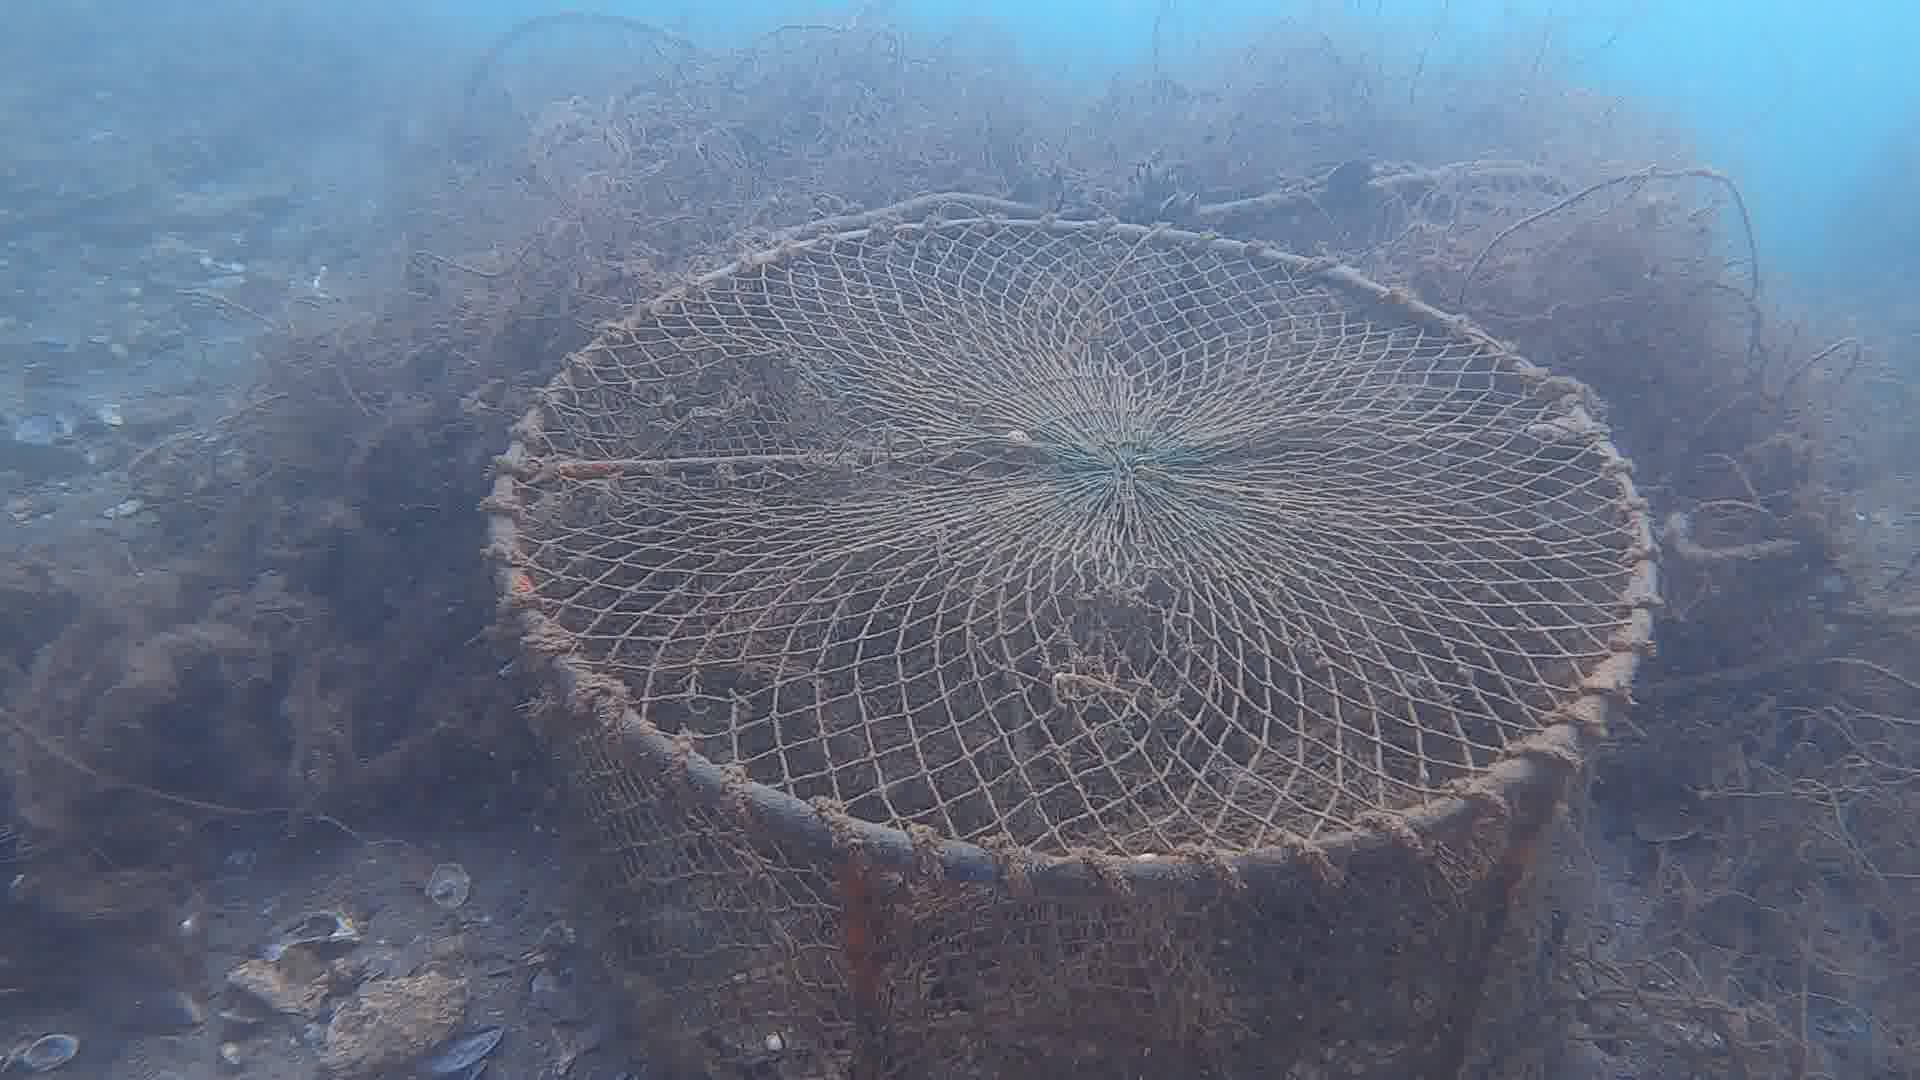circular fish trap: (477, 210, 1665, 1080)
